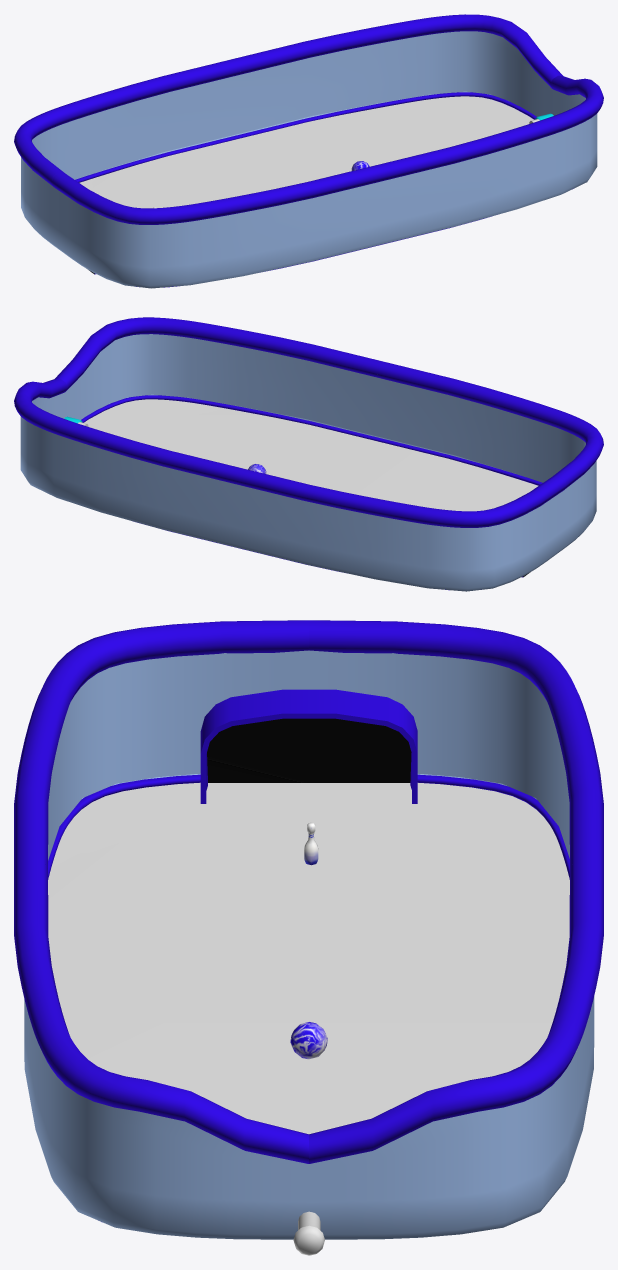
The model's file is BowlingThing.fbx.
3 renders of one model, top to bottom at view 1: azimuth 30°, elevation 25°; view 2: azimuth 150°, elevation 25°; view 3: azimuth 270°, elevation 25°, orthographic. The views are drawn at different scales.
Visible parts, largest first — view 1: BowlingGame; view 2: BowlingGame; view 3: BowlingGame, Marble, TheBowlingThing.
Boxes of the visible parts, x1,y1,x2,y2 form: BowlingGame: (14, 14, 603, 288); BowlingGame: (14, 317, 603, 591); BowlingGame: (14, 620, 603, 1239); Marble: (290, 1022, 327, 1059); TheBowlingThing: (293, 1211, 324, 1255).
Size of the model in its own units: 2424 by 362 by 1214.
7 materials, 2 textured.
